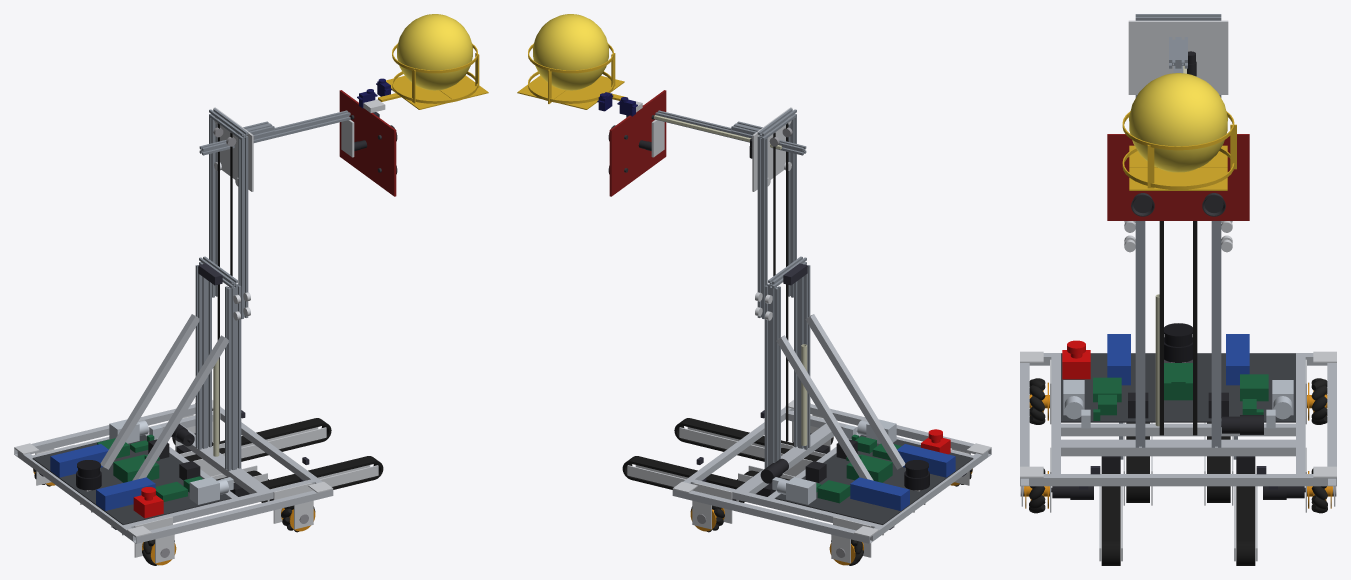
File: BR-A_terjulur.glb
The picture shows the model from 3 angles, left to right: view 1: azimuth 30°, elevation 25°; view 2: azimuth 150°, elevation 25°; view 3: azimuth 270°, elevation 25°; orthographic projection. The views are drawn at different scales.
Parts seen in each view (by area): view 1: Mustika (peraga), pelat_kepala_vakum, tiang_lift_t0_2, dek_elektronik, tiang_lift_t0, dek_samping_kanan, penguat_tiang, tiang_lift_t1_2, penguat_tiang_2, rel_dalam_kanan, keranjang_alas_2_daun, dek_samping_kiri (+19 smaller); view 2: Mustika (peraga), pelat_kepala_vakum, dek_elektronik, tiang_lift_t0, tiang_lift_t0_2, dek_samping_kiri, penguat_tiang_2, penguat_tiang, tiang_lift_t1, rel_dalam_kiri, keranjang_alas_2_daun, baterai_6S (+18 smaller); view 3: Mustika (peraga), dek_elektronik, pelat_kepala_vakum, carriage, palang_tiang, dek_depan, palang_3, keranjang_alas_2_daun, tiang_lift_t0, tiang_lift_t0_2, keranjang_rangka, flipper_kiri (+33 smaller).
Part boxes in pixels (x1,y1,x2,y2): Mustika (peraga): (397,14,472,90); pelat_kepala_vakum: (339,90,396,196); tiang_lift_t0_2: (225,283,241,471); dek_elektronik: (32,435,230,524); tiang_lift_t0: (195,265,211,449); dek_samping_kanan: (132,489,333,543); penguat_tiang: (100,314,199,469); tiang_lift_t1_2: (238,138,248,318); penguat_tiang_2: (132,335,228,480); rel_dalam_kanan: (127,479,314,528); keranjang_alas_2_daun: (386,75,488,109); dek_samping_kiri: (14,404,195,456); Mustika (peraga): (533,14,608,90); pelat_kepala_vakum: (609,90,666,196); dek_elektronik: (775,435,973,524); tiang_lift_t0: (764,283,780,468); tiang_lift_t0_2: (794,265,810,449); dek_samping_kiri: (672,489,873,543); penguat_tiang_2: (805,314,905,469); penguat_tiang: (776,335,873,480); tiang_lift_t1: (757,138,767,318); rel_dalam_kiri: (691,479,878,528); keranjang_alas_2_daun: (517,75,624,109); baterai_6S: (850,477,909,510); Mustika (peraga): (1129,73,1227,172); dek_elektronik: (1061,353,1295,422); pelat_kepala_vakum: (1107,134,1249,220); carriage: (1128,20,1228,94); palang_tiang: (1061,439,1295,456); dek_depan: (1029,474,1327,486); palang_3: (1061,423,1295,436); keranjang_alas_2_daun: (1129,145,1227,190); tiang_lift_t0: (1211,257,1221,447); tiang_lift_t0_2: (1135,257,1145,447); keranjang_rangka: (1122,111,1236,189); flipper_kiri: (1236,473,1255,565).
Size of the model in its own units: 1256 by 1291 by 668.
